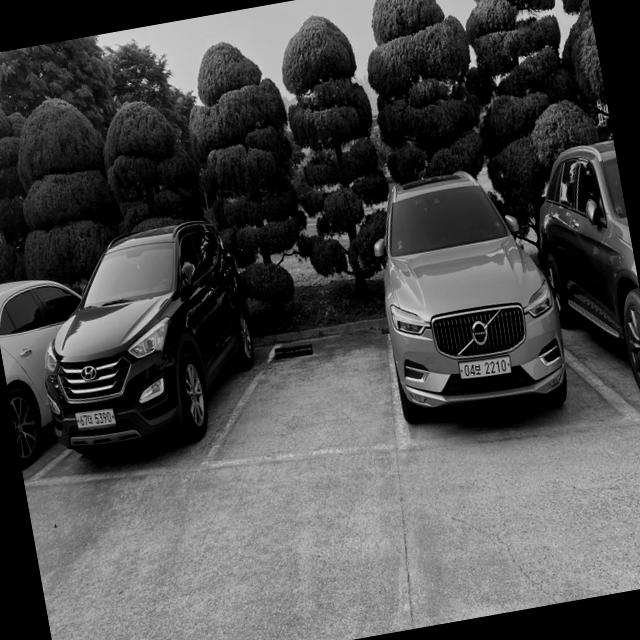car: (22, 212, 270, 488), (361, 160, 578, 442), (531, 155, 640, 418), (0, 265, 104, 488)
free: (224, 320, 403, 470)
